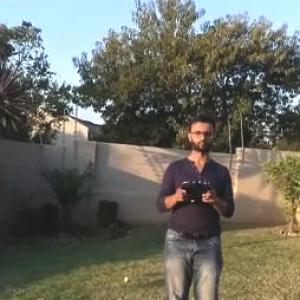follow: (149, 109, 241, 298)
